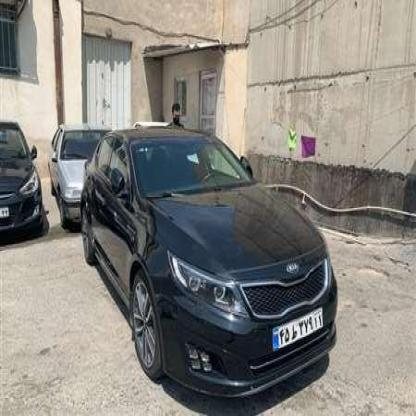Car: (79, 107, 338, 399), (45, 121, 123, 219), (0, 105, 56, 235)
